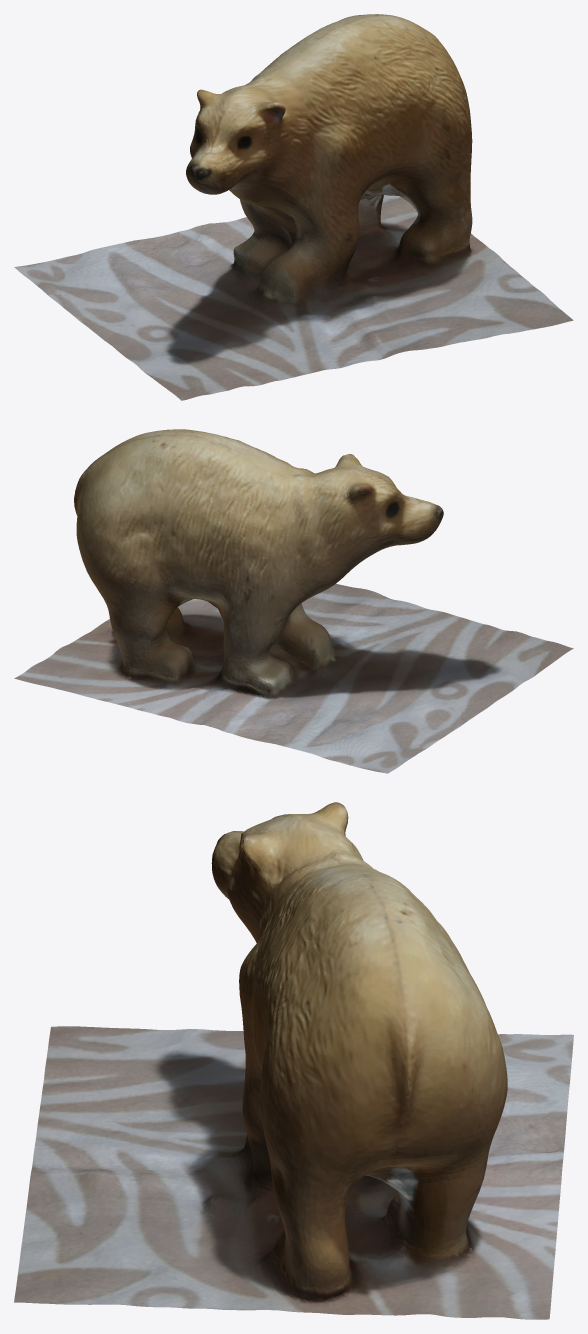
The picture shows the model from 3 angles, top to bottom: view 1: azimuth 30°, elevation 25°; view 2: azimuth 150°, elevation 25°; view 3: azimuth 270°, elevation 25°; orthographic projection. The views are drawn at different scales.
Visible parts, largest first — view 1: Mesh_0; view 2: Mesh_0; view 3: Mesh_0.
Boxes of the visible parts, x1=… form: Mesh_0: x1=14, y1=14, x2=573, y2=400; Mesh_0: x1=14, y1=429, x2=573, y2=773; Mesh_0: x1=14, y1=802, x2=573, y2=1319.
Size of the model in its own units: 0.6286 by 0.3513 by 0.5185.
1 material, 1 textured.
